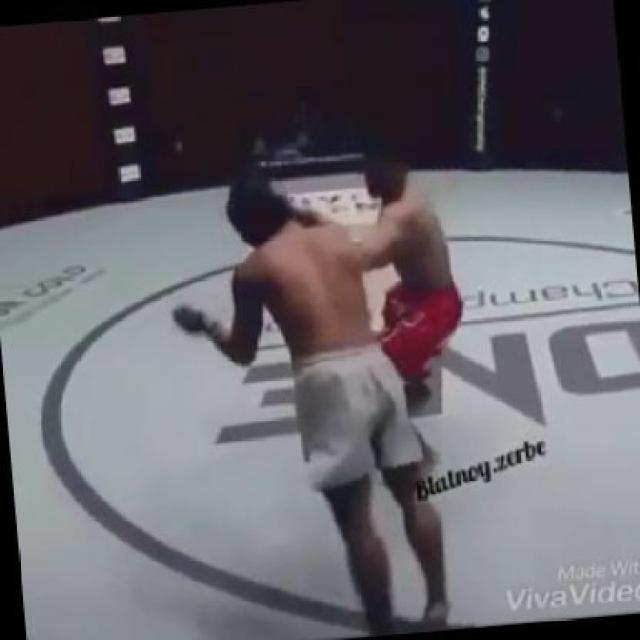fight: (192, 123, 488, 635)
